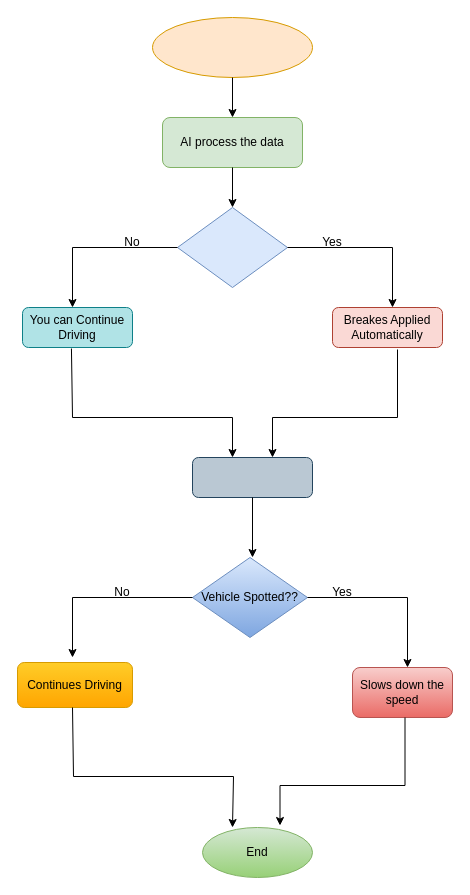
Image size: 470x895. Some labels were removed from this diagram. Each missing label, with the centre of its shape:
"Blind Spot Detection" goes at [252,477].
"Cameras and Sensors" goes at [232,47].
"If any Obstacle?" goes at [232,247].
